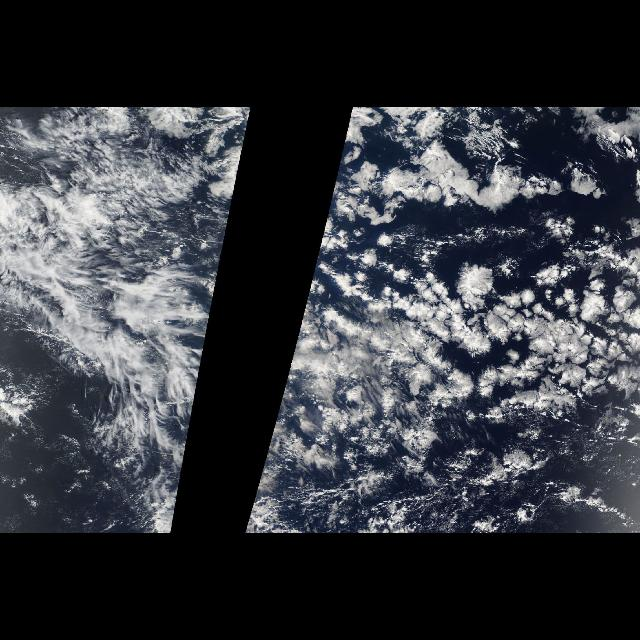Flower: (356, 111, 634, 419)
Gravel: (270, 412, 574, 534)
